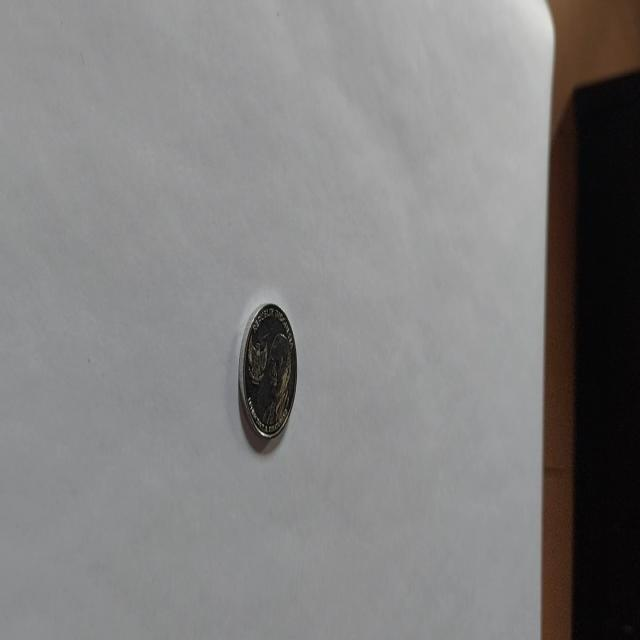lima ratus rupiah: (237, 300, 298, 442)
